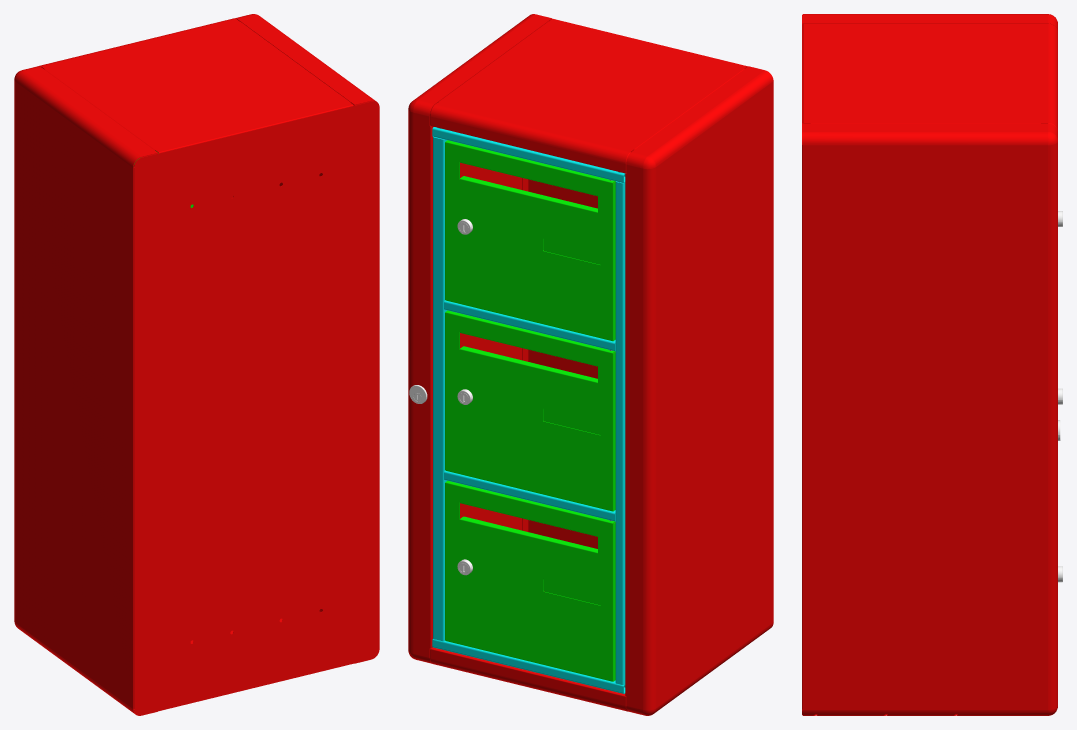
The model's file is discretion_A3.glb.
3 views of the same model, side by side, from view 1: azimuth 30°, elevation 25°; view 2: azimuth 150°, elevation 25°; view 3: azimuth 270°, elevation 25° (orthographic). The views are drawn at different scales.
Parts seen in each view (by area): view 1: TOLE FOND coffre arrondie A3, TOLE DROITE coffre arrondie 3, TOLE DESSUS coffre arrondie A, TOLE GAUCHE coffre arrondie 3_Défaut<Brut d''usinage>; view 2: TOLE DROITE coffre arrondie 3, TOLE DESSUS coffre arrondie A, façade discrétion_node_0, façade discrétion_node, façade discrétion, TOLE GAUCHE coffre arrondie 3_Défaut<Brut d''usinage>, TOLE PLIEE CROCHET CADRE 3, TUBE COTEE CADRE 3_node, TOLE DESSUS coffre arrondie A_node, TOLE FOND coffre arrondie A3, TUBE DESSUS CADRE A, TUBE DESSOUS CADRE A (+5 smaller); view 3: TOLE GAUCHE coffre arrondie 3_Défaut<Brut d''usinage>, TOLE DESSUS coffre arrondie A, TOLE DROITE coffre arrondie 3, TOLE FOND coffre arrondie A3.
Part boxes in pixels (x1,y1,x2,y2): TOLE FOND coffre arrondie A3: (133, 101, 379, 715); TOLE DROITE coffre arrondie 3: (14, 66, 157, 715); TOLE DESSUS coffre arrondie A: (39, 18, 353, 152); TOLE GAUCHE coffre arrondie 3_Défaut<Brut d''usinage>: (230, 14, 379, 663); TOLE DROITE coffre arrondie 3: (625, 66, 773, 715); TOLE DESSUS coffre arrondie A: (430, 18, 747, 173); façade discrétion_node_0: (445, 480, 615, 681); façade discrétion_node: (445, 310, 615, 511); façade discrétion: (445, 140, 615, 341); TOLE GAUCHE coffre arrondie 3_Défaut<Brut d''usinage>: (408, 14, 551, 663); TOLE PLIEE CROCHET CADRE 3: (432, 127, 447, 647); TUBE COTEE CADRE 3_node: (615, 181, 625, 684); TOLE DESSUS coffre arrondie A_node: (430, 647, 627, 711); TOLE FOND coffre arrondie A3: (522, 66, 747, 548); TUBE DESSUS CADRE A: (433, 127, 625, 182); TUBE DESSOUS CADRE A: (433, 639, 625, 693); TOLE GAUCHE coffre arrondie 3_Défaut<Brut d''usinage>: (802, 123, 1057, 715); TOLE DESSUS coffre arrondie A: (802, 23, 1057, 130); TOLE DROITE coffre arrondie 3: (802, 14, 1057, 30); TOLE FOND coffre arrondie A3: (802, 15, 802, 714).
Bounding box in the file's own units: 424 × 918 × 372.
